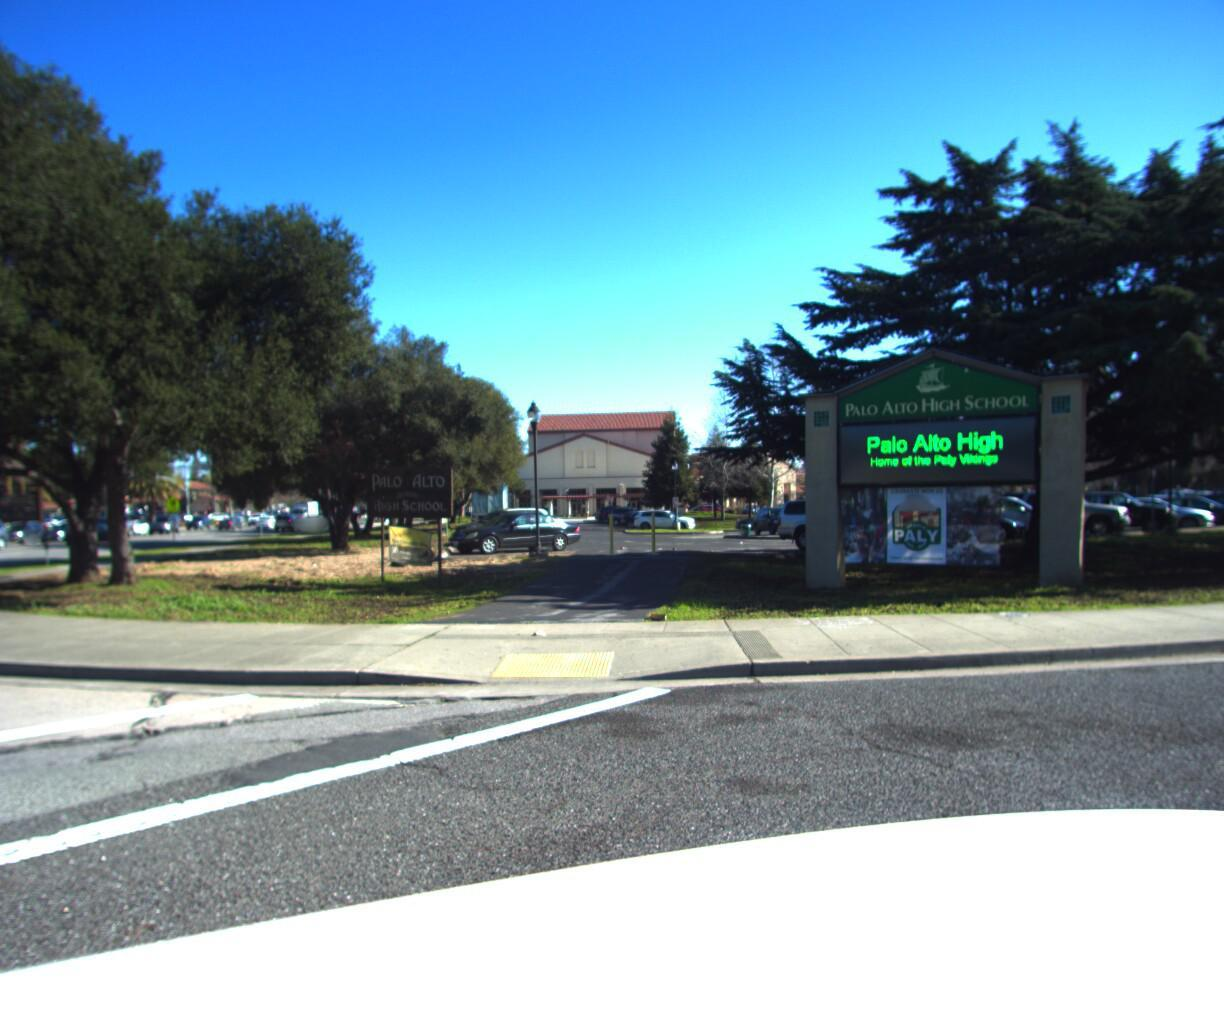car: (39, 515, 94, 542), (0, 511, 20, 546), (274, 508, 304, 527)
